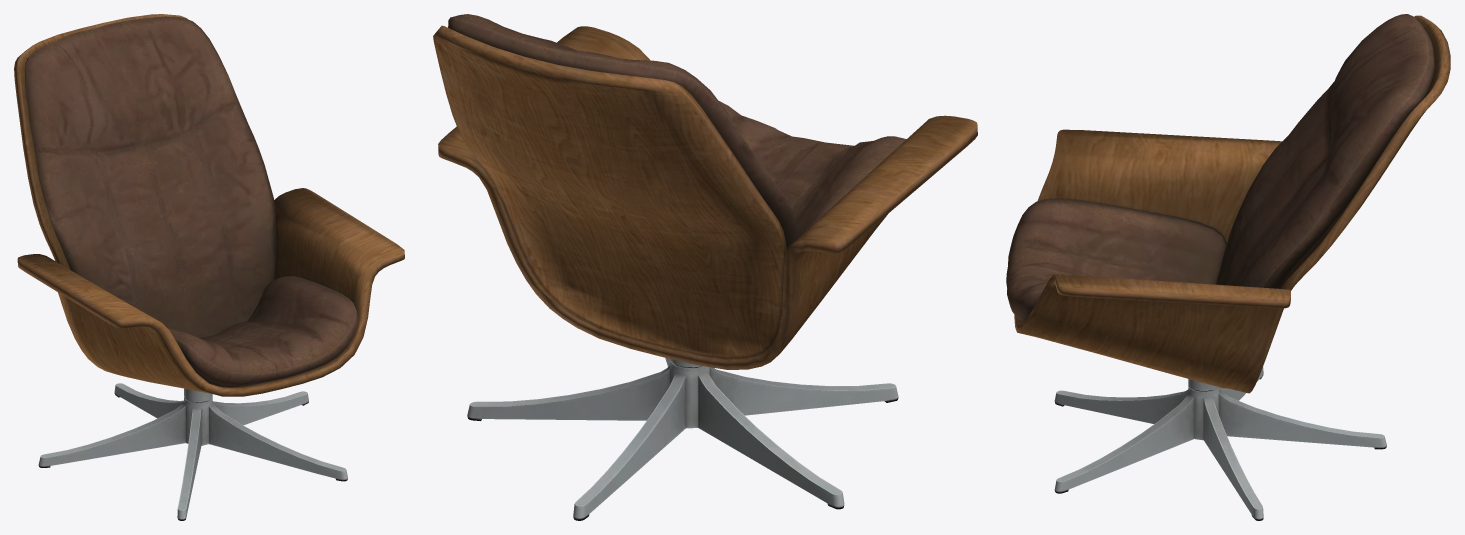
The model's file is lounge-chair.glb.
3 views of the same model, side by side, from view 1: azimuth 30°, elevation 25°; view 2: azimuth 150°, elevation 25°; view 3: azimuth 270°, elevation 25° (orthographic). The views are drawn at different scales.
Visible parts, largest first — view 1: mid_century_lounge_chair; view 2: mid_century_lounge_chair; view 3: mid_century_lounge_chair.
Part boxes in pixels (x1=…): mid_century_lounge_chair: x1=14, y1=14, x2=404, y2=520; mid_century_lounge_chair: x1=433, y1=14, x2=977, y2=520; mid_century_lounge_chair: x1=1006, y1=14, x2=1450, y2=520.
Size of the model in its own units: 1.01 by 1.17 by 1.19.
1 material, 1 textured.
